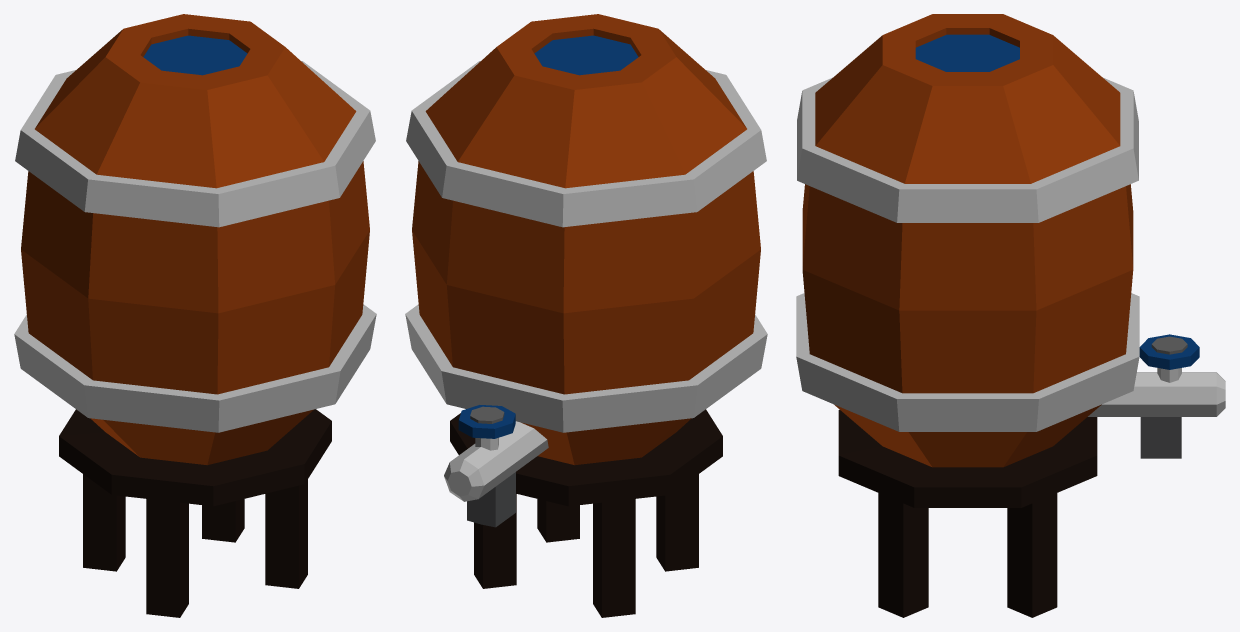
Rendered from beerBarrel.fbx.
3 views of the same model, side by side, from view 1: azimuth 30°, elevation 25°; view 2: azimuth 150°, elevation 25°; view 3: azimuth 270°, elevation 25° (orthographic).
Visible parts, largest first — view 1: Cylinder.011, Cube.007; view 2: Cylinder.011, Cube.007, Cylinder.012, Cylinder.013; view 3: Cylinder.011, Cube.007, Cylinder.012, Cylinder.013.
Part boxes in pixels (<box>): Cylinder.011: <box>14,14,376,506</box>; Cube.007: <box>83,474,307,617</box>; Cylinder.011: <box>405,14,767,506</box>; Cube.007: <box>474,474,698,617</box>; Cylinder.012: <box>444,421,548,527</box>; Cylinder.013: <box>458,405,515,450</box>; Cylinder.011: <box>796,14,1139,507</box>; Cube.007: <box>878,493,1057,617</box>; Cylinder.012: <box>1088,372,1225,458</box>; Cylinder.013: <box>1139,334,1199,382</box>.
Bounding box in the file's own units: 372 × 631 × 466.
1 material, 1 textured.
